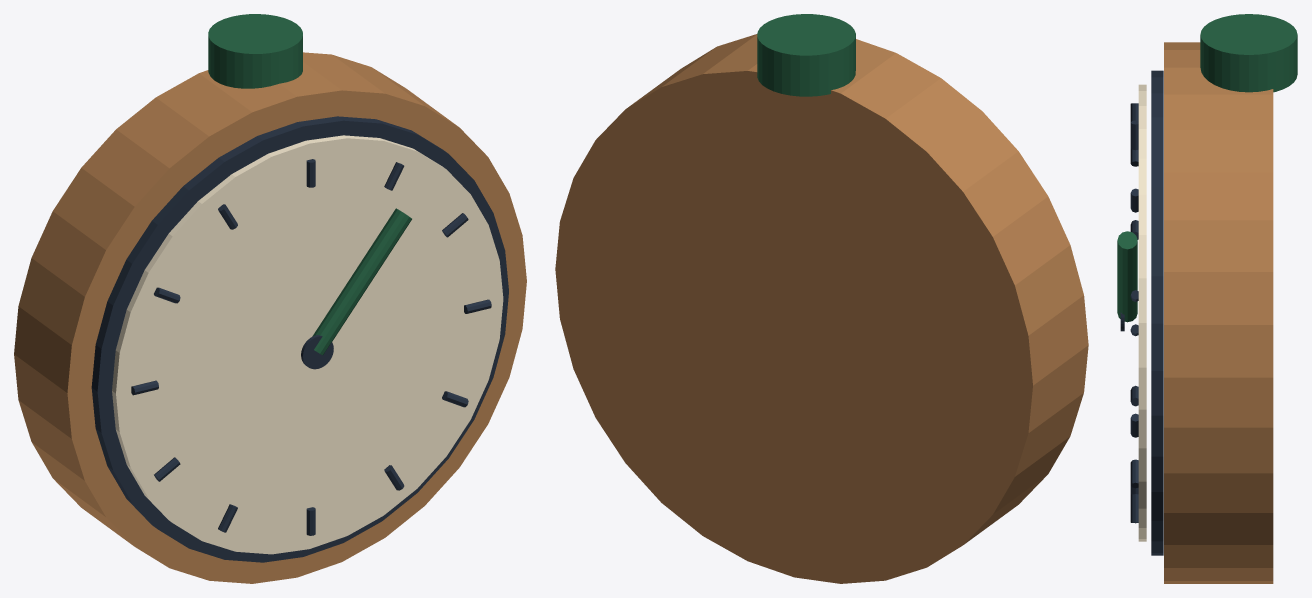
File: timer.glb
The picture shows the model from 3 angles, left to right: view 1: azimuth 30°, elevation 25°; view 2: azimuth 150°, elevation 25°; view 3: azimuth 270°, elevation 25°; orthographic projection. The views are drawn at different scales.
Parts seen in each view (by area): view 1: dial, housing, bezel, knob, timer hand0, hub; view 2: housing, knob; view 3: housing, knob, bezel, dial, timer hand0, tick 0, tick 5, tick 4.
Part boxes in pixels (x1,y1,x2,y2): dial: (112,135,503,554); housing: (14,52,526,583); bezel: (91,116,508,562); knob: (208,14,302,88); timer hand0: (312,208,411,355); hub: (301,335,333,369); housing: (555,34,1088,583); knob: (757,14,855,96); housing: (1164,42,1273,583); knob: (1200,14,1297,92); bezel: (1151,70,1163,555); dial: (1138,84,1146,541); timer hand0: (1117,231,1137,322); tick 0: (1130,120,1138,150); tick 5: (1130,494,1138,523); tick 4: (1130,459,1138,488).
Size of the model in its own units: 1.34 by 1.43 by 0.445.
